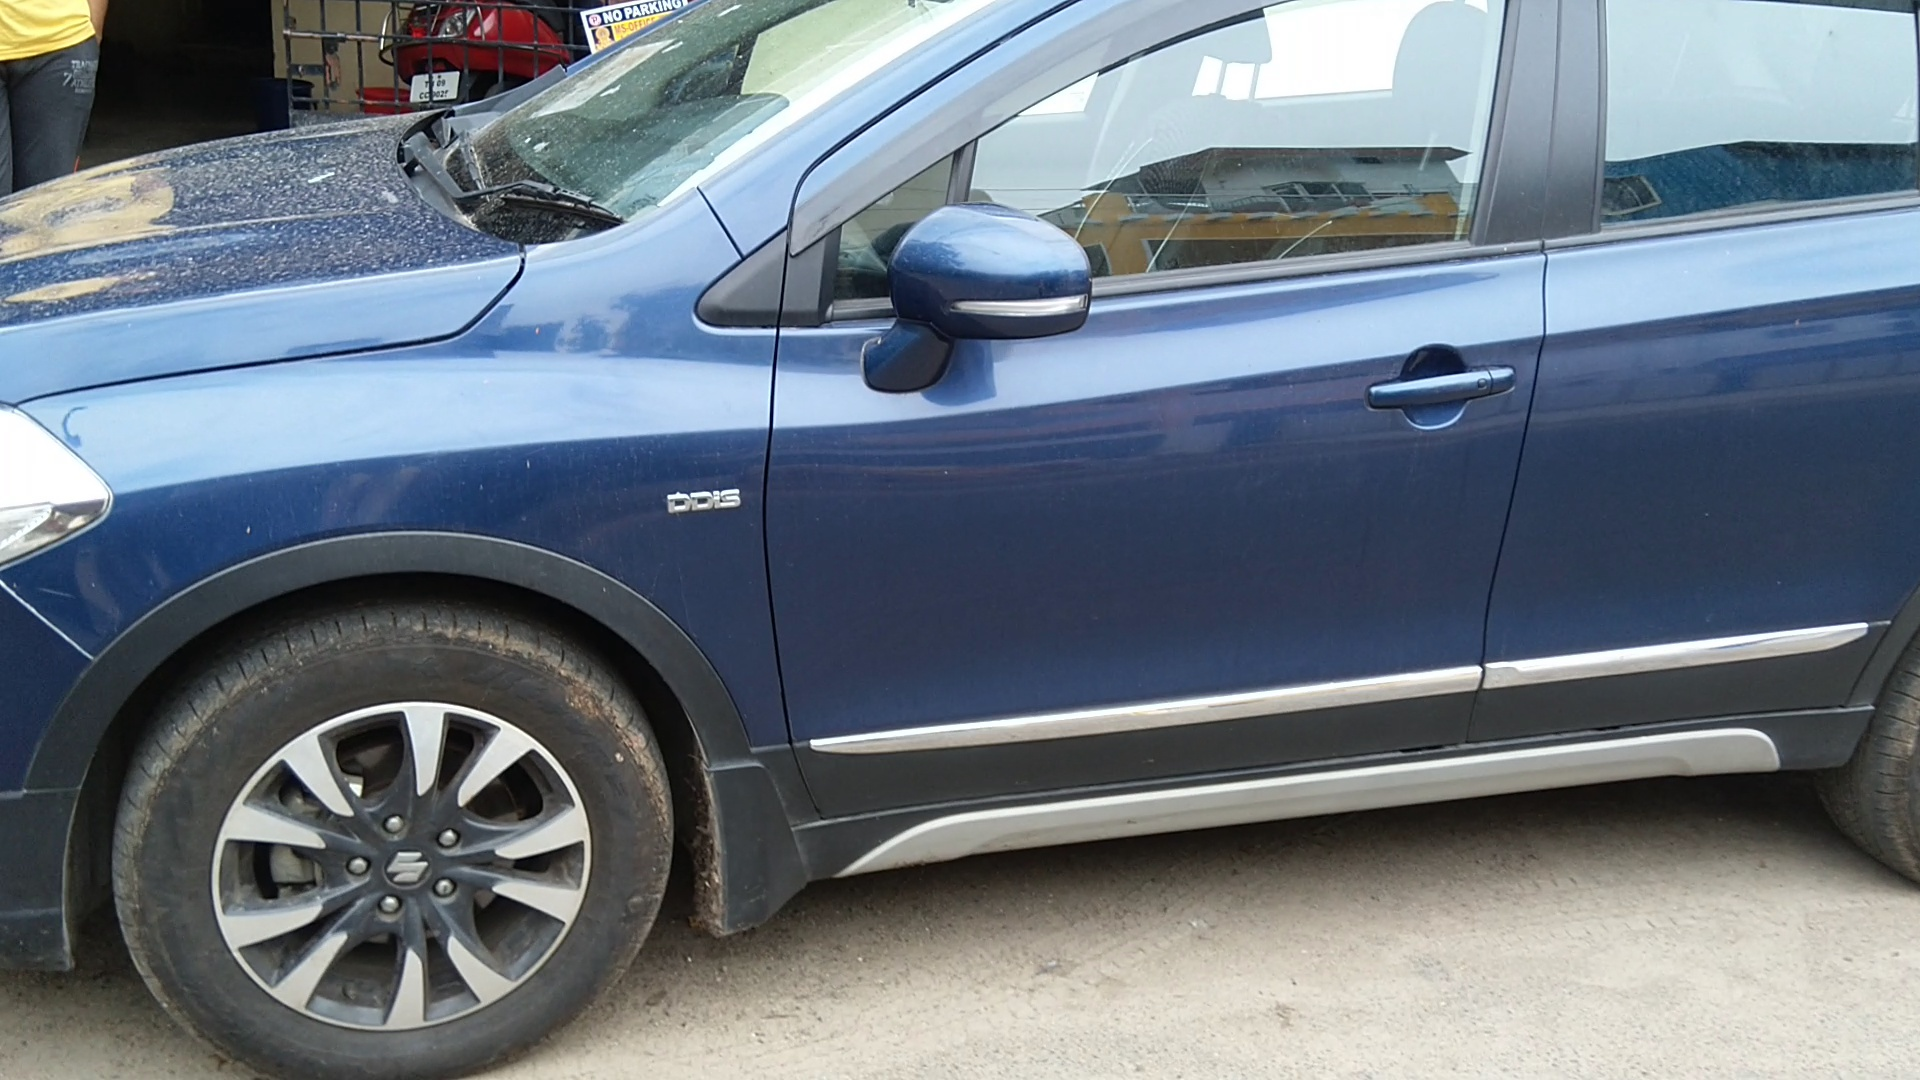alloy_wheel: (138, 611, 684, 1080)
ovr_mirror: (851, 190, 1108, 407)
